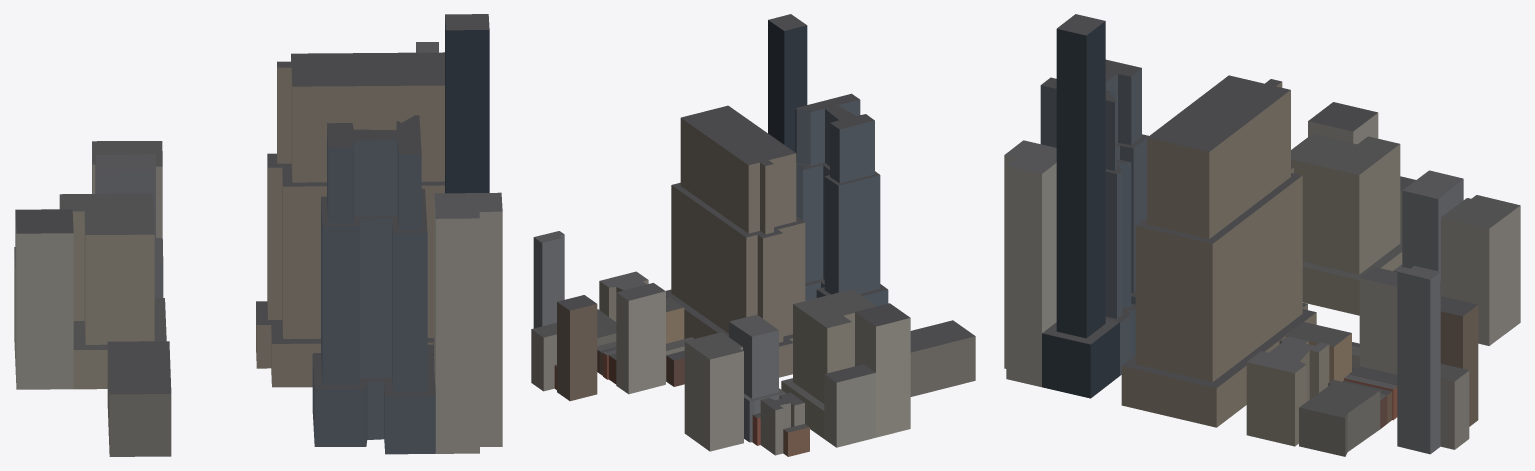
The model's file is 4_0.far.glb.
3 renders of one model, left to right at view 1: azimuth 30°, elevation 25°; view 2: azimuth 150°, elevation 25°; view 3: azimuth 270°, elevation 25°, orthographic. The views are drawn at different scales.
Visible parts, largest first — view 1: 4_0_far; view 2: 4_0_far; view 3: 4_0_far.
Part boxes in pixels (<box>): 4_0_far: <box>14,14,502,456</box>; 4_0_far: <box>531,14,975,456</box>; 4_0_far: <box>1004,14,1520,456</box>.
Bounding box in the file's own units: 278 × 217 × 284.
